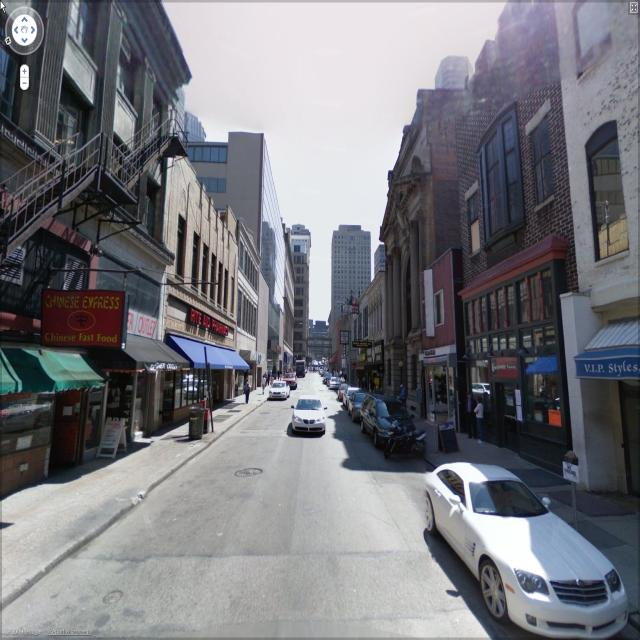b_1: (0, 8, 162, 354), (462, 1, 564, 432), (564, 5, 640, 438), (372, 82, 467, 400), (146, 161, 240, 361), (411, 258, 468, 416), (320, 217, 381, 341), (218, 232, 262, 374), (347, 266, 395, 376), (288, 218, 314, 356), (282, 239, 298, 379)
